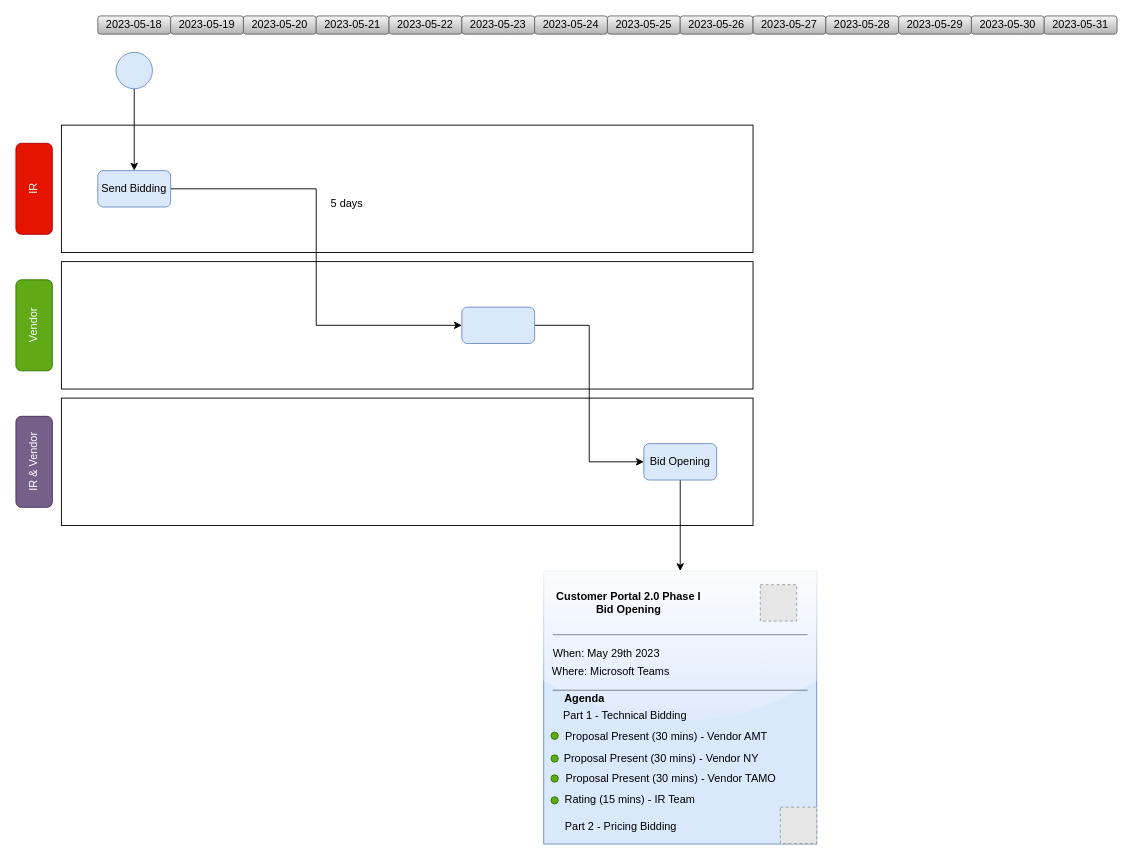
Some shapes in this 1133 by 860 pixel diagram are drawn without their labels. Grey dashed boxes stand in for pictures. The box of each missing label's shape, as (x1, y1, x2, y2) in pixels:
Start: (115, 51, 152, 89)
Waiting for response: (461, 306, 535, 344)
